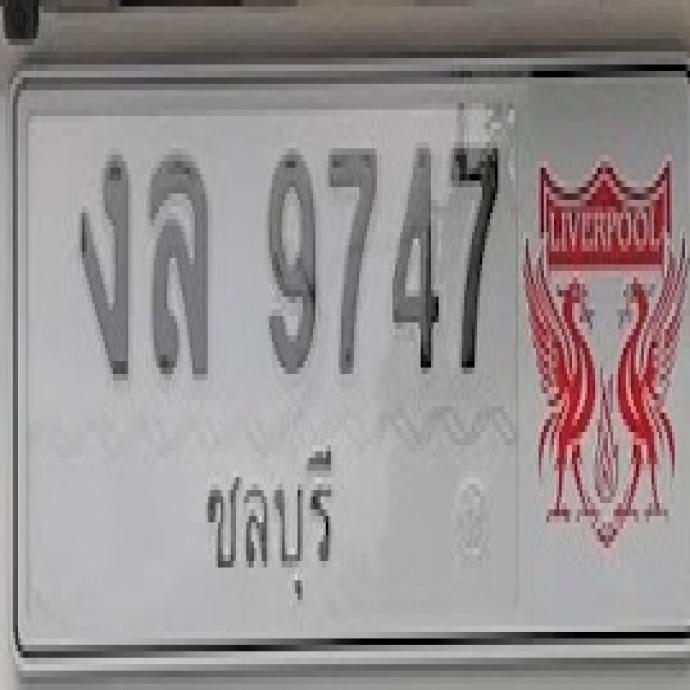4: (389, 139, 438, 371)
7: (326, 141, 376, 373), (450, 139, 498, 371)
9: (265, 147, 316, 372)
A07: (77, 147, 129, 376)
A36: (148, 149, 209, 376)
CBI: (195, 429, 343, 612)
